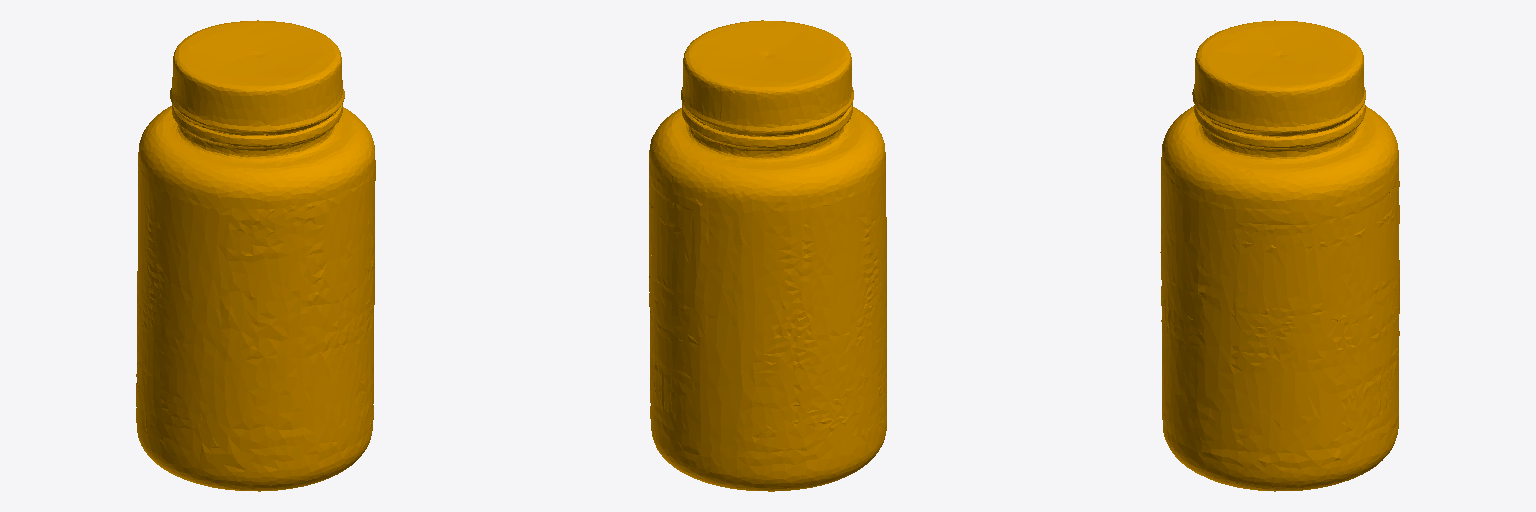
robot.urdf — Pet_Dophilus_powder:
<?xml version="1.0" ?>
<robot name="Pet_Dophilus_powder">
  <link name="link_0">
    <inertial>
      <origin xyz="0 0 0" rpy="0 0 0"/>
      <mass value="1.0"/>
      <inertia ixx="0.1" ixy="0.0" ixz="0.0" iyy="0.1" iyz="0.0" izz="0.1"/>
    </inertial>
    <visual name="visual">
      <origin xyz="0 0 0" rpy="0 0 0"/>
      <geometry>
        <mesh filename="meshes/model.obj"/>
      </geometry>
    </visual>
    <collision name="collision_0">
      <origin xyz="0 0 0" rpy="0 0 0"/>
      <geometry>
        <mesh filename="meshes/model.obj"/>
      </geometry>
    </collision>
  </link>
</robot>

--- Render facts (derived) ---
The picture shows the robot from 3 angles, left to right: view 1: azimuth 30°, elevation 25°; view 2: azimuth 150°, elevation 25°; view 3: azimuth 270°, elevation 25°; orthographic projection.
Model Pet_Dophilus_powder with 1 links and 0 joints (none), rooted at link_0, posed all joints at 0.
Links seen in each view (by area): view 1: link_0; view 2: link_0; view 3: link_0.
Boxes of the visible links, <box> form: link_0: <box>136,20,375,491</box>; link_0: <box>649,20,886,491</box>; link_0: <box>1160,20,1399,491</box>.
Size in the robot's own frame: 0.0558 by 0.0556 by 0.1023 metres.
1 mesh visuals loaded from 1 distinct referenced files (1 OBJ).